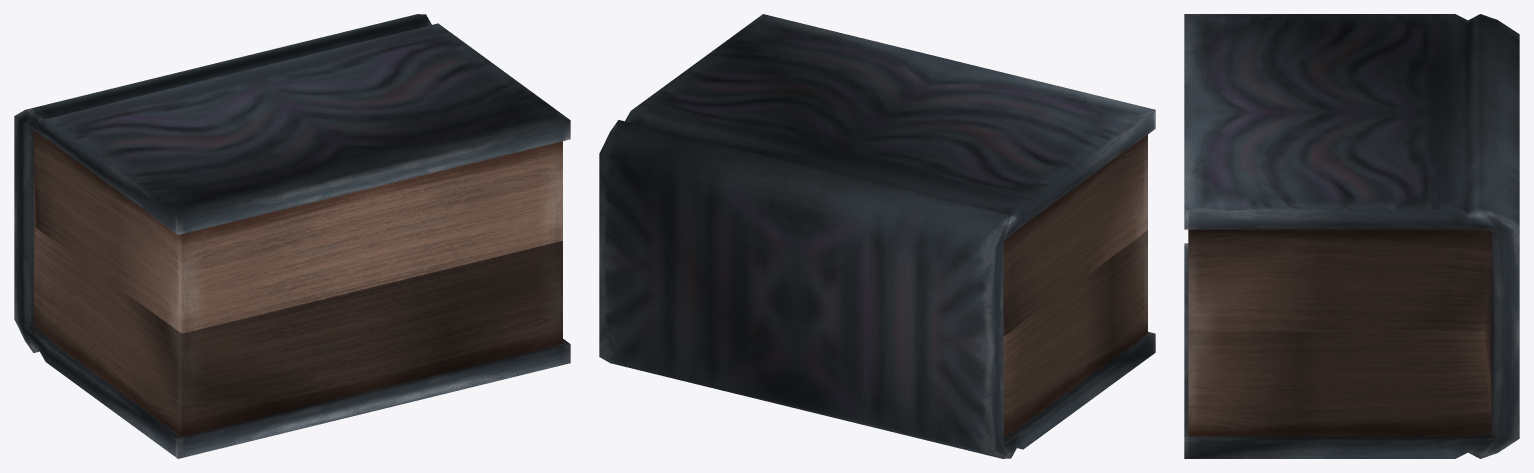
The model's file is Book.fbx.
3 renders of one model, left to right at view 1: azimuth 30°, elevation 25°; view 2: azimuth 150°, elevation 25°; view 3: azimuth 270°, elevation 25°, orthographic. The views are drawn at different scales.
Parts seen in each view (by area): view 1: Book; view 2: Book; view 3: Book.
Part boxes in pixels (box(x1,y1,x2,y2)): Book: box(14, 14, 570, 458); Book: box(599, 14, 1155, 458); Book: box(1184, 14, 1519, 458).
Bounding box in the file's own units: 35.35 × 20.9 × 25.55.
